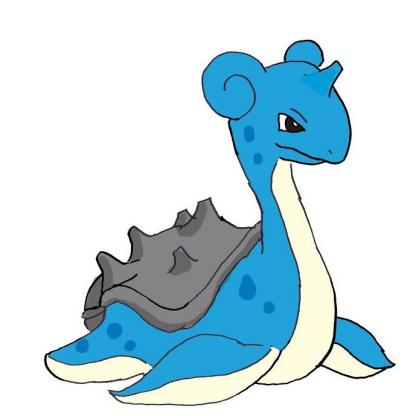Lapras: (15, 13, 416, 416)
